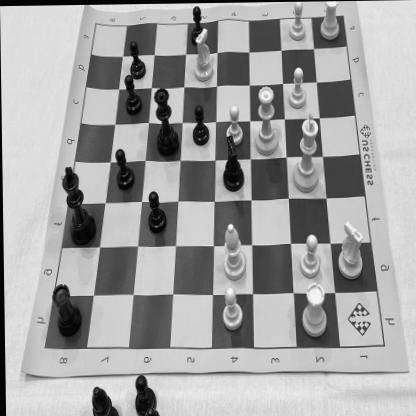black-king: (60, 159, 98, 246)
black-knight: (219, 134, 247, 192)
black-pawn: (143, 186, 169, 236), (114, 146, 136, 194), (190, 101, 212, 149), (121, 73, 144, 115), (128, 37, 148, 80), (188, 4, 207, 46)
black-queen: (151, 83, 181, 158)
black-rook: (50, 277, 84, 339)
white-bishop: (220, 222, 248, 281)
white-king: (290, 110, 323, 194)
white-knight: (334, 220, 366, 281), (191, 24, 215, 86)
white-pawn: (218, 284, 246, 333), (297, 232, 323, 281), (285, 2, 309, 44), (224, 102, 246, 146), (286, 66, 308, 110)
white-queen: (252, 82, 279, 157)
white-rook: (298, 281, 328, 339), (317, 1, 343, 43)
